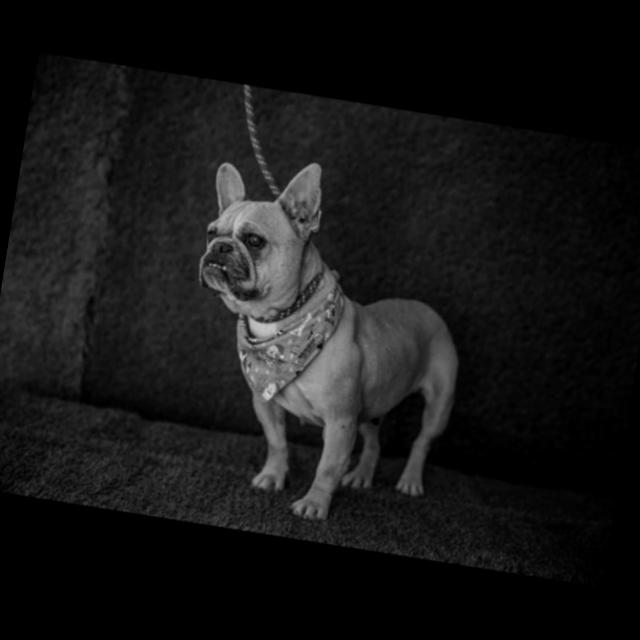french_bulldog_dog: (180, 142, 342, 336)
